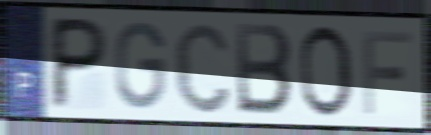B: (233, 20, 294, 118)
C: (172, 18, 234, 117)
F: (360, 27, 415, 118)
G: (112, 19, 168, 113)
O: (298, 22, 355, 120)
P: (46, 14, 111, 112)
